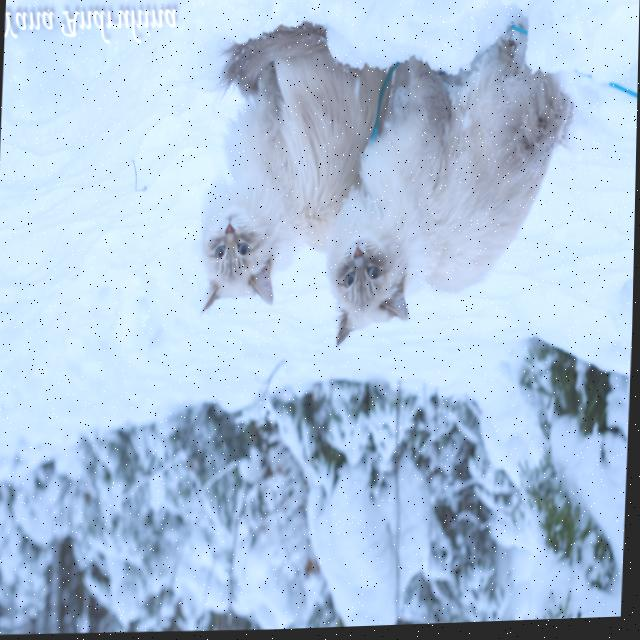Neva Masquerade: (321, 28, 577, 357), (193, 22, 343, 323)
